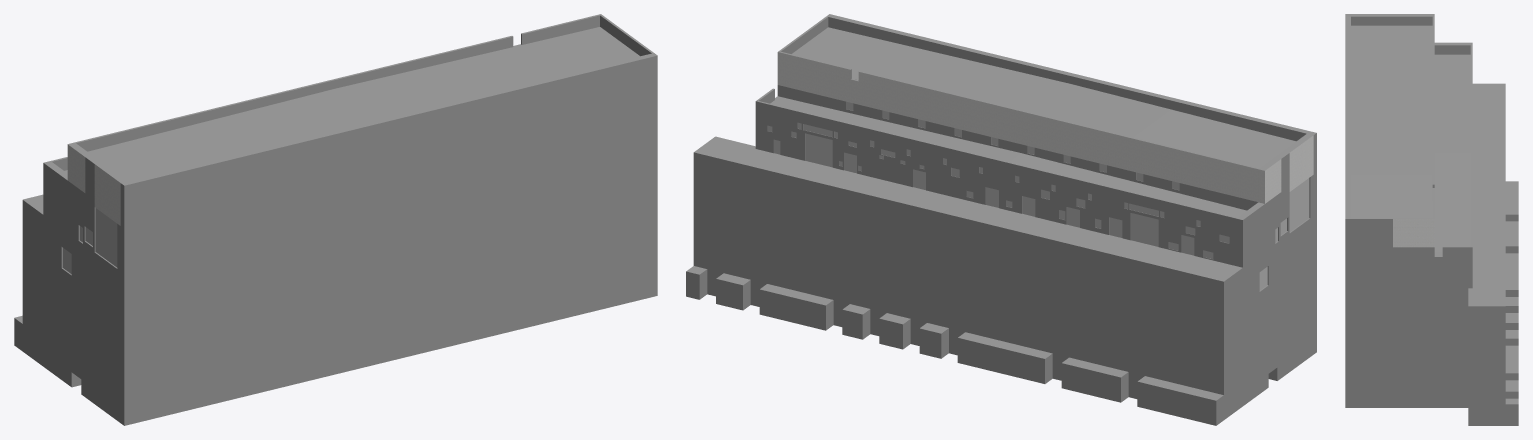
File: TWFWPS_WLM_170752.gltf
3 views of the same model, side by side, from view 1: azimuth 30°, elevation 25°; view 2: azimuth 150°, elevation 25°; view 3: azimuth 270°, elevation 25° (orthographic). The views are drawn at different scales.
Visible parts, largest first — view 1: qiangti, Material #0, men; view 2: qiangti, Material #0, men; view 3: qiangti, Material #0.
Boxes of the visible parts, x1,y1,x2,y2 form: qiangti: (14, 14, 657, 425); Material #0: (67, 144, 120, 225); men: (63, 208, 117, 273); qiangti: (686, 14, 1316, 425); Material #0: (777, 52, 1313, 203); men: (767, 101, 1309, 290); qiangti: (1345, 14, 1518, 425); Material #0: (1393, 219, 1434, 247).
Bounding box in the file's own units: 80.4 × 31.8 × 26.43.
Materials: 3 (1 with a texture image).
